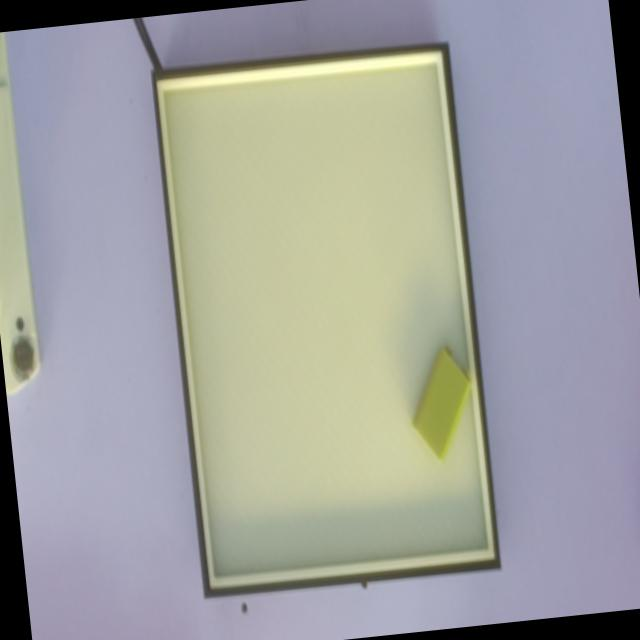bateria: (412, 345, 471, 464)
mesa: (151, 42, 501, 598)
